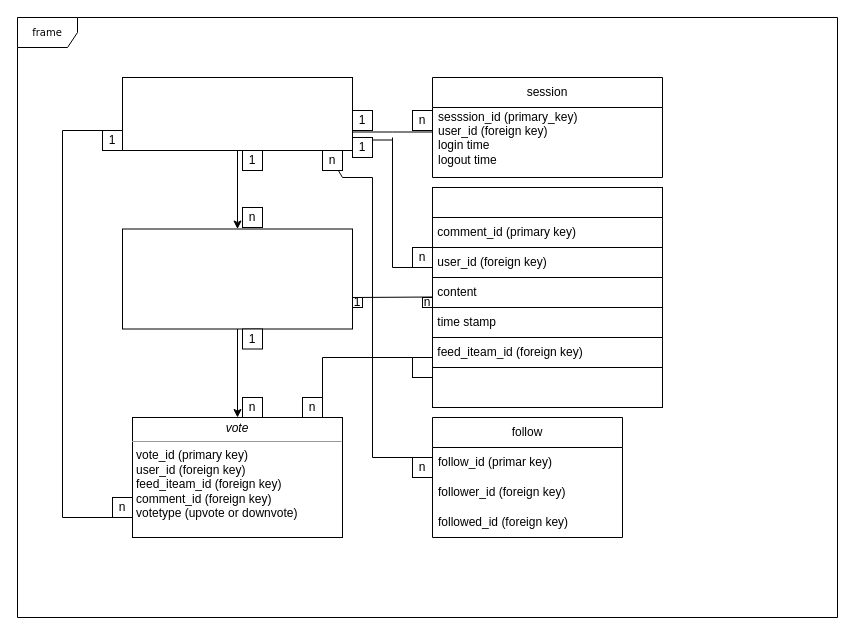
Some shapes in this 855 by 635 pixel diagram are drawn without their labels. Each missing label, with the centre of its shape:
"comment" belongs at point 547,202.
"feed item feed_iteam_id (primary key) user id (foregin key) content time stamp" belongs at point 237,278.
"parent_comment_id (foreign key)" belongs at point 547,387.
"user user_id (primary key) user_name (unique password created at)" belongs at point 237,113.
